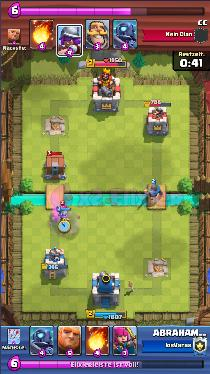ally_goblin_cage: (42, 153, 68, 180)
ally_knight: (145, 183, 163, 201)
ally_musketeer: (57, 210, 70, 227)
enemy_archer: (58, 204, 68, 214)
